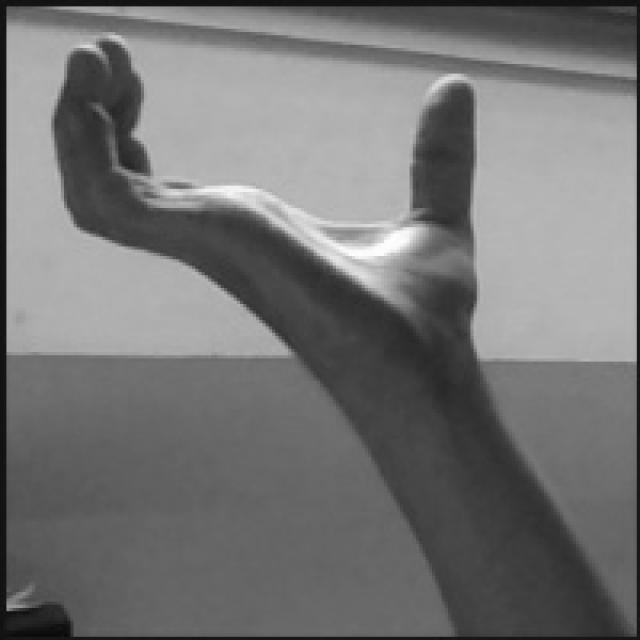space: (54, 30, 481, 350)
